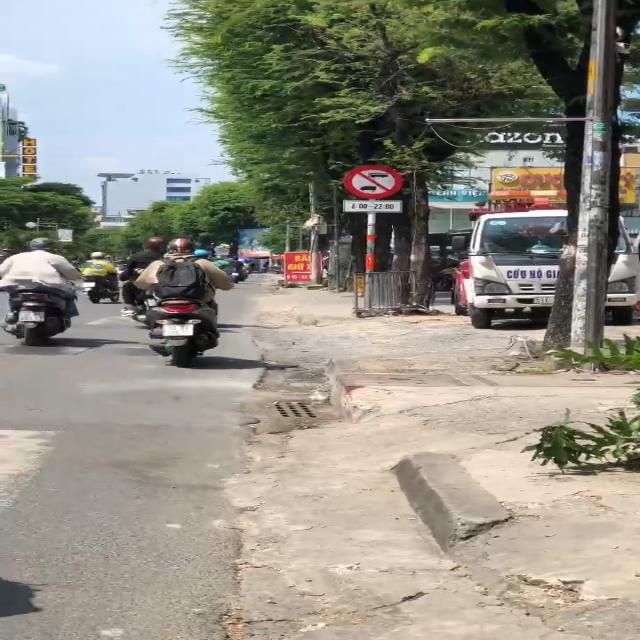Bien bao cam xe oto khach va xe oto tai: (344, 160, 406, 200)
